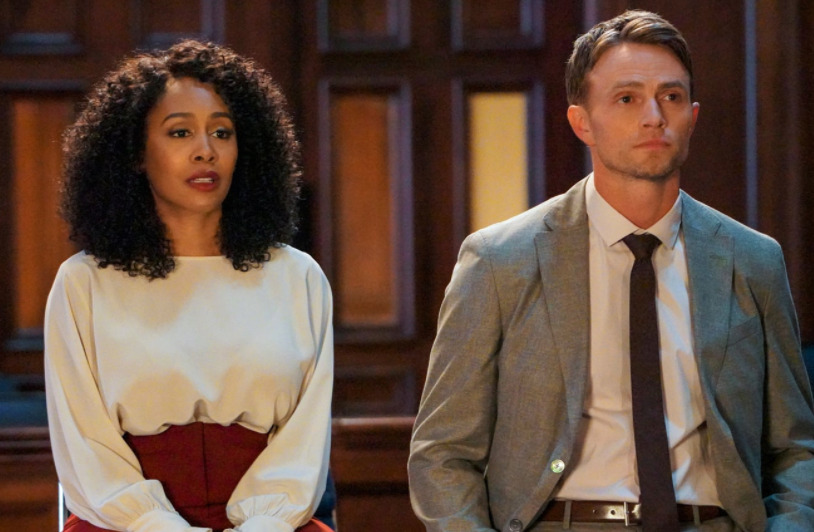Bad: (43, 10, 814, 532)
